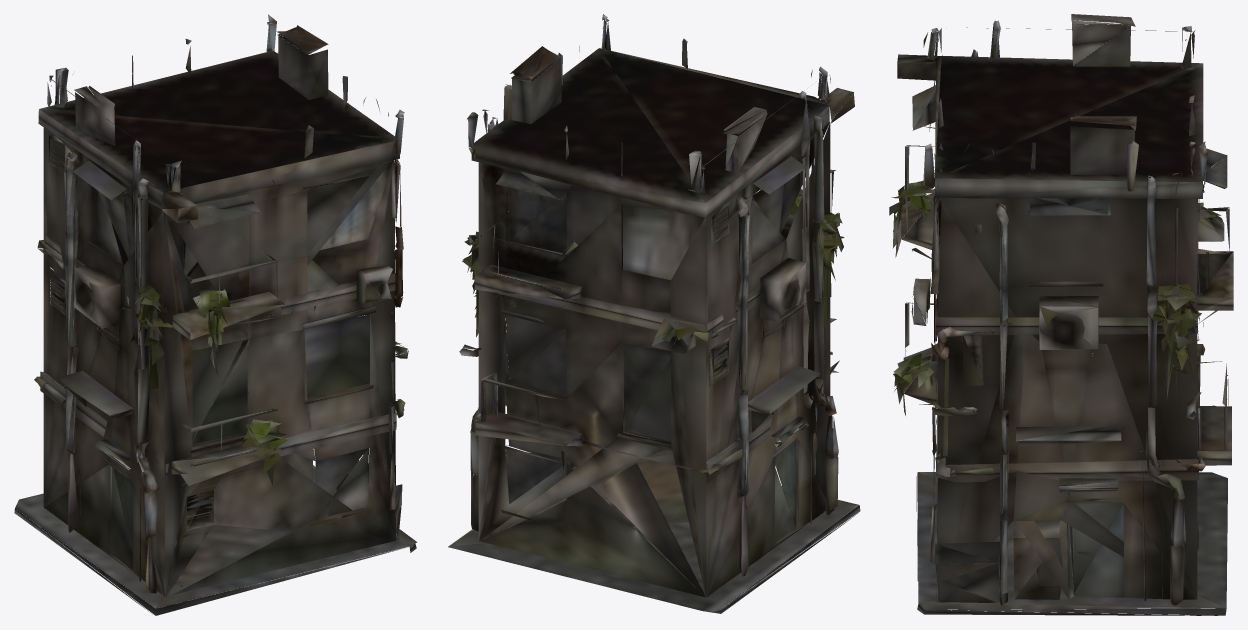
File: facade-far.glb
The picture shows the model from 3 angles, left to right: view 1: azimuth 30°, elevation 25°; view 2: azimuth 150°, elevation 25°; view 3: azimuth 270°, elevation 25°; orthographic projection. The views are drawn at different scales.
Parts seen in each view (by area): view 1: facade; view 2: facade; view 3: facade.
Boxes of the visible parts, box(x1,y1,x2,y2) form: facade: box(14, 14, 417, 615); facade: box(448, 14, 860, 613); facade: box(889, 14, 1233, 615).
Size of the model in its own units: 7.66 by 12.01 by 7.75.
Materials: 1 (1 with a texture image).
